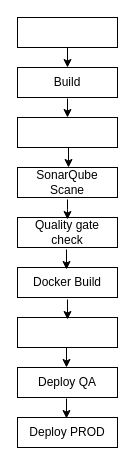
Some shapes in this 135 by 465 pixel diagram are drawn without their labels. Here are the shapes that lost their labels. From the top down, the centre of each, then its label:
At point 67,32: "Code Commit".
At point 67,132: "Unit Test".
At point 67,332: "Deploy DEV".
